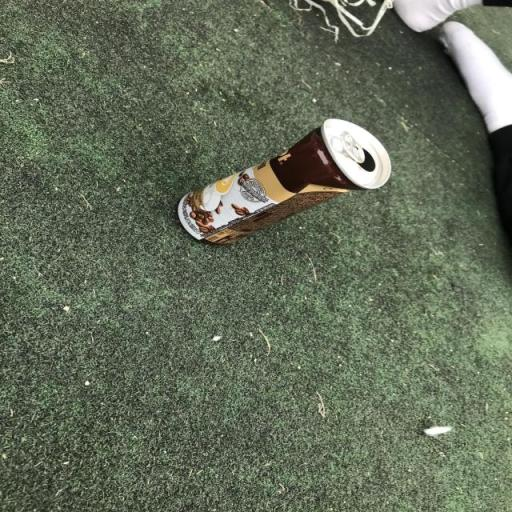metal: (105, 91, 446, 279)
